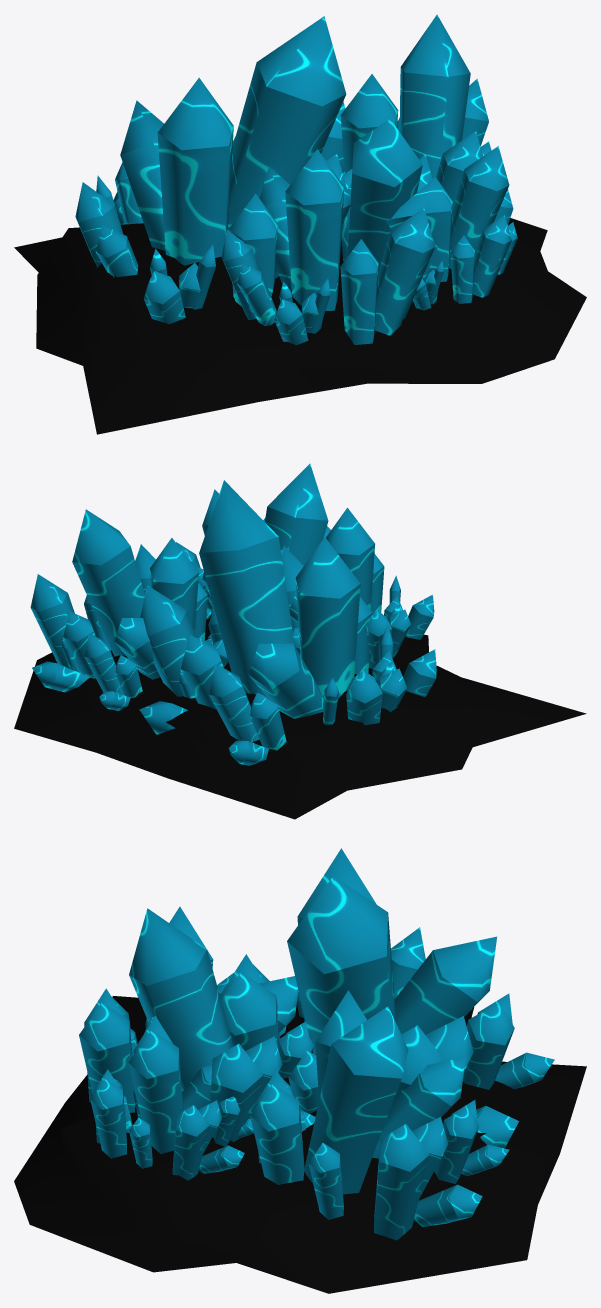
Rendered from bigmaden.fbx.
3 renders of one model, top to bottom at view 1: azimuth 30°, elevation 25°; view 2: azimuth 150°, elevation 25°; view 3: azimuth 270°, elevation 25°, orthographic. The views are drawn at different scales.
Parts seen in each view (by area): view 1: Sphere001; view 2: Sphere001; view 3: Sphere001.
Boxes of the visible parts, left/top/right/bottom form: Sphere001: left=14, top=14, right=586, bottom=434; Sphere001: left=14, top=463, right=586, bottom=819; Sphere001: left=14, top=848, right=586, bottom=1293.
Bounding box in the file's own units: 77.87 × 63.27 × 37.69.
Materials: 1 (1 with a texture image).
